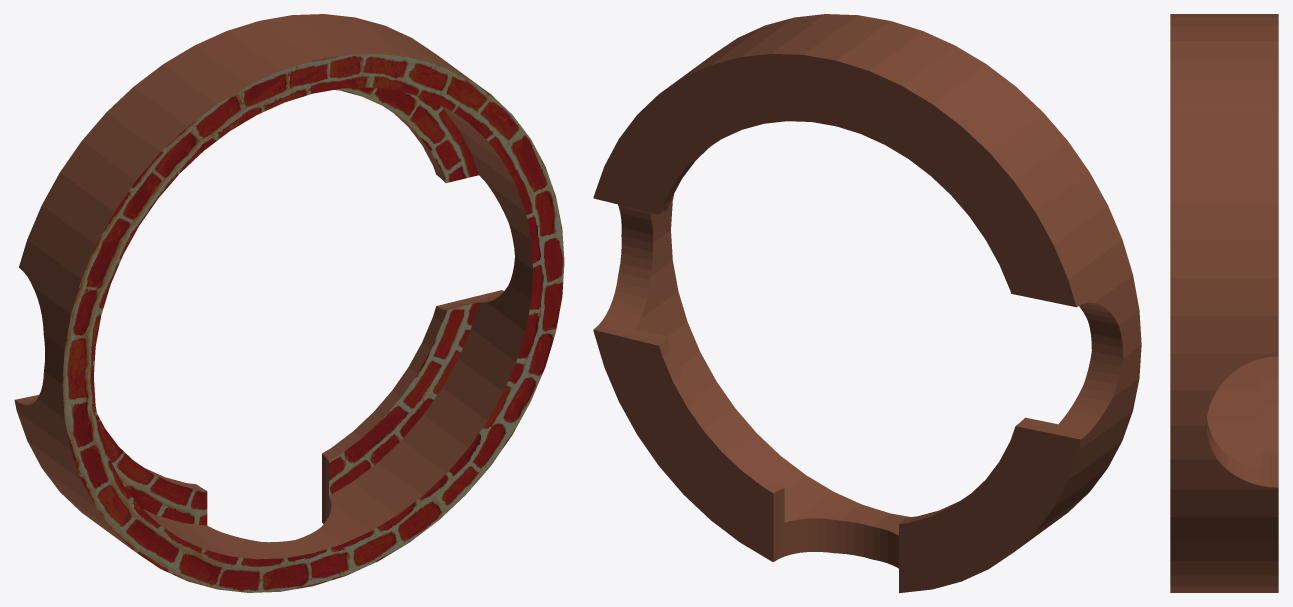
Rendered from pool_048.obj.
3 renders of one model, left to right at view 1: azimuth 30°, elevation 25°; view 2: azimuth 150°, elevation 25°; view 3: azimuth 270°, elevation 25°, orthographic.
Bounding box in the file's own units: 16 × 16 × 3.
